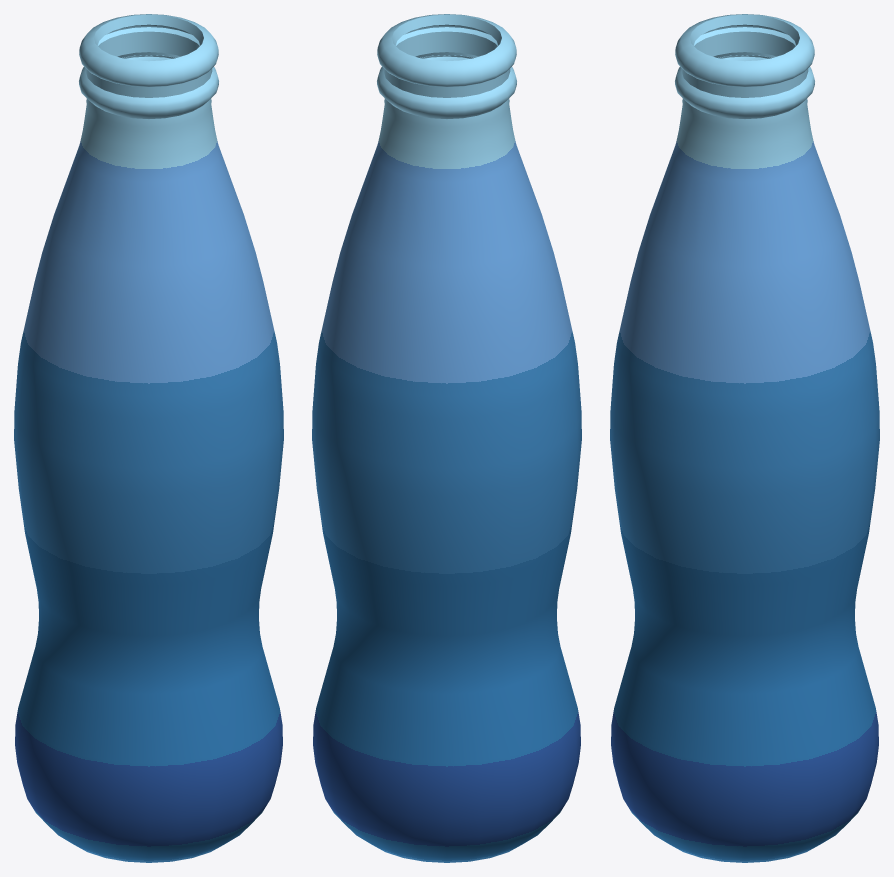
Rendered from botella.fbx.
3 views of the same model, side by side, from view 1: azimuth 30°, elevation 25°; view 2: azimuth 150°, elevation 25°; view 3: azimuth 270°, elevation 25° (orthographic).
Visible parts, largest first — view 1: botella; view 2: botella; view 3: botella.
Part boxes in pixels (box(x1,y1,x2,y2)): botella: box(14, 14, 283, 862); botella: box(312, 14, 581, 862); botella: box(610, 14, 879, 862).
Size of the model in its own units: 53.77 by 174 by 53.77.
